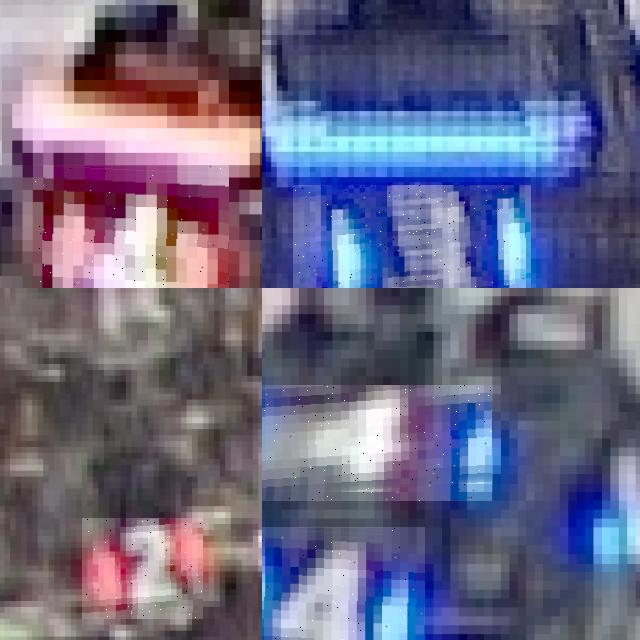B3: (293, 184, 530, 288)
B4: (262, 385, 492, 500), (262, 527, 425, 640)
R2: (82, 518, 203, 619)
R4: (33, 165, 229, 288)
